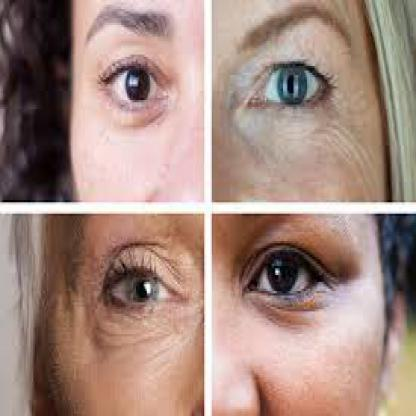darkspot: (111, 233, 175, 260), (237, 232, 284, 248), (194, 226, 228, 240), (289, 244, 302, 249)
